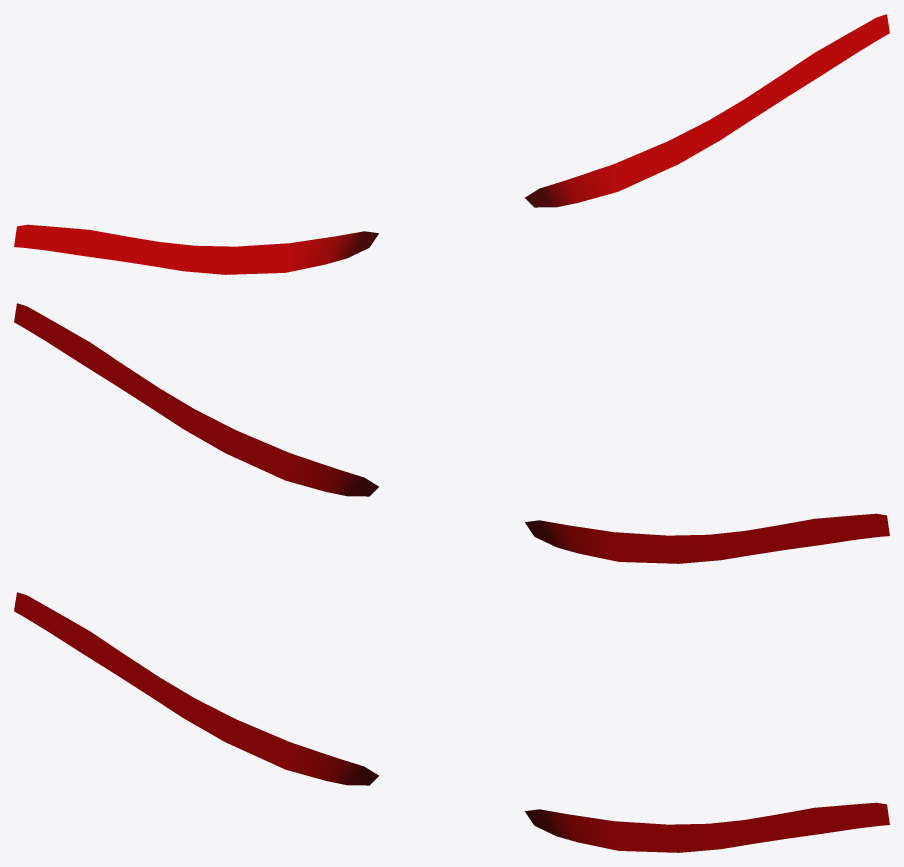
File: frame167.fbx
The picture shows the model from 3 angles, top to bottom: view 1: azimuth 30°, elevation 25°; view 2: azimuth 150°, elevation 25°; view 3: azimuth 330°, elevation 25°; orthographic projection.
Parts seen in each view (by area): view 1: MaterialLayer; view 2: MaterialLayer; view 3: MaterialLayer.
Boxes of the visible parts, x1,y1,x2,y2 form: MaterialLayer: [14, 14, 889, 274]; MaterialLayer: [14, 303, 889, 563]; MaterialLayer: [14, 592, 889, 852].
Bounding box in the file's own units: 1512 × 187 × 0.
